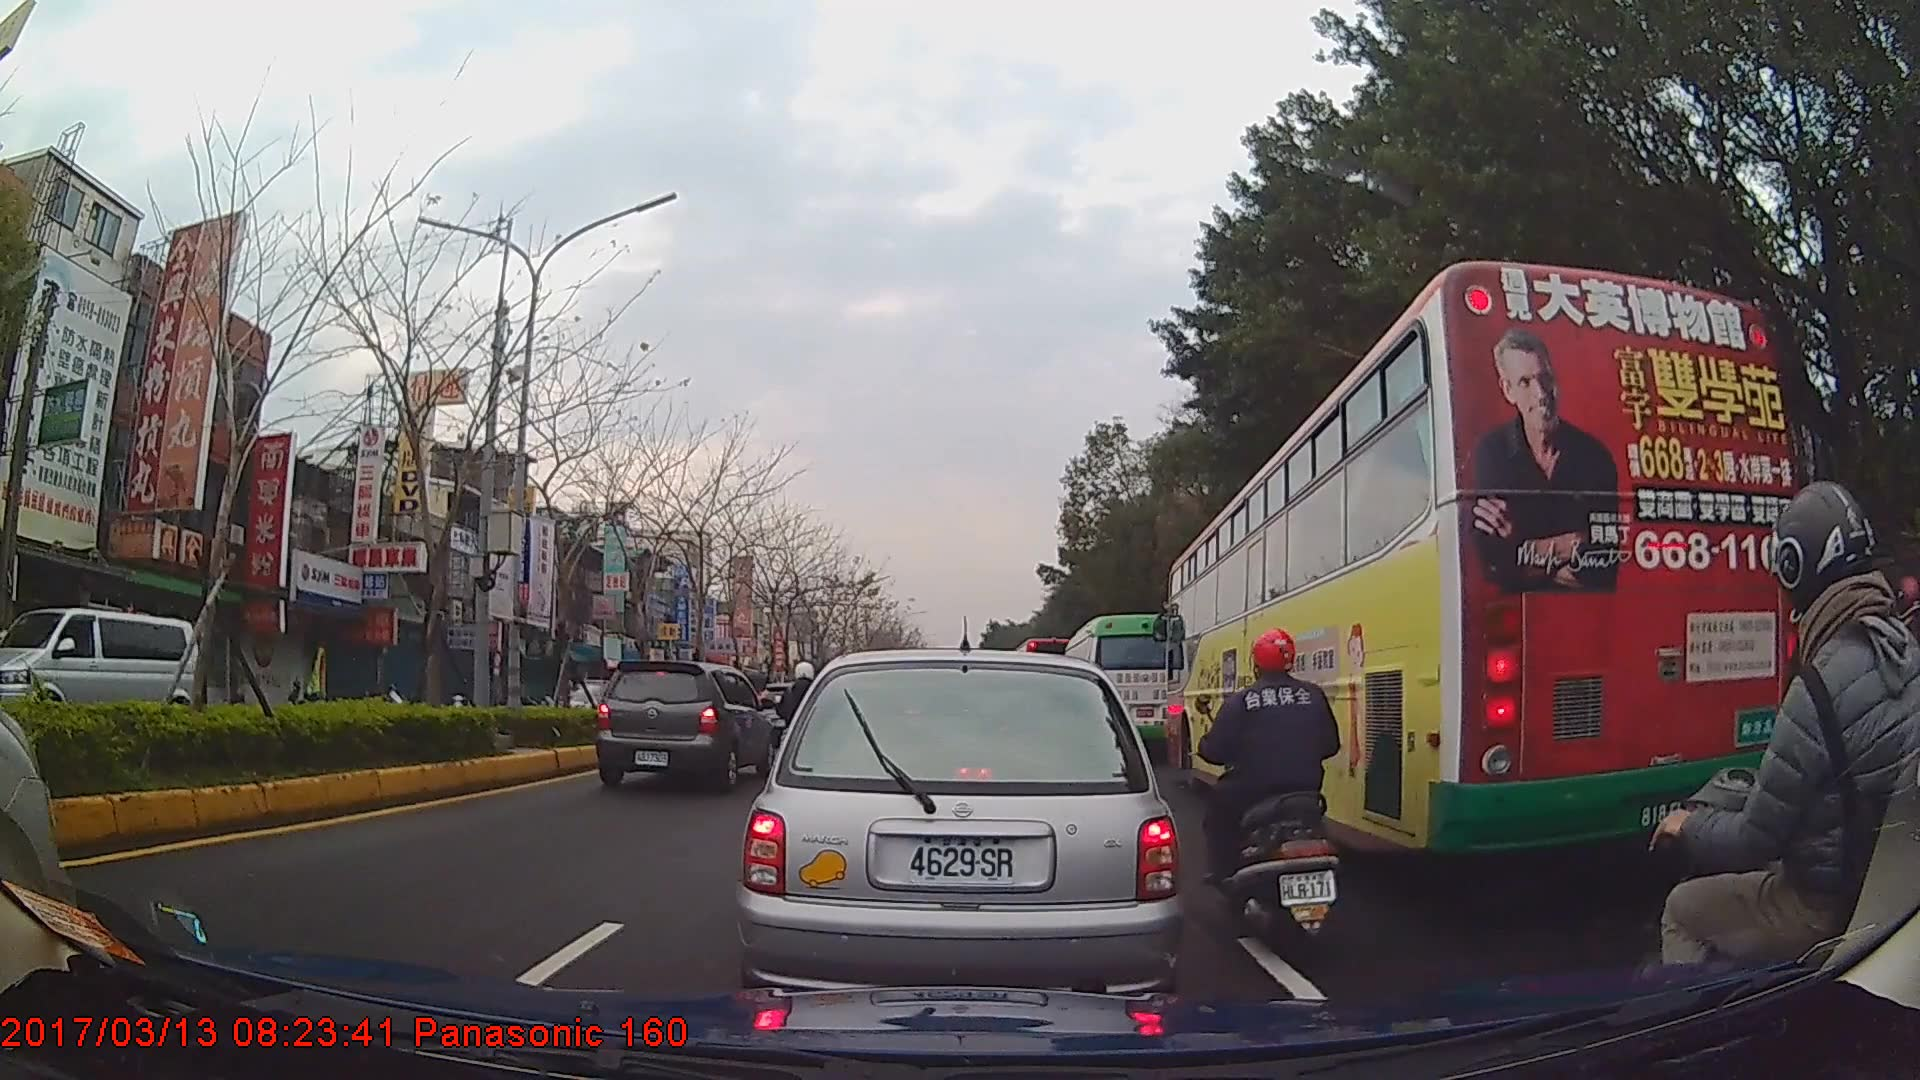rider: (1635, 478, 1920, 1080), (1193, 624, 1353, 958), (779, 663, 830, 781), (450, 677, 471, 707)
vehicle: (1162, 258, 1812, 866), (735, 650, 1183, 1012), (0, 606, 204, 739), (594, 661, 776, 789), (1059, 612, 1183, 759)
